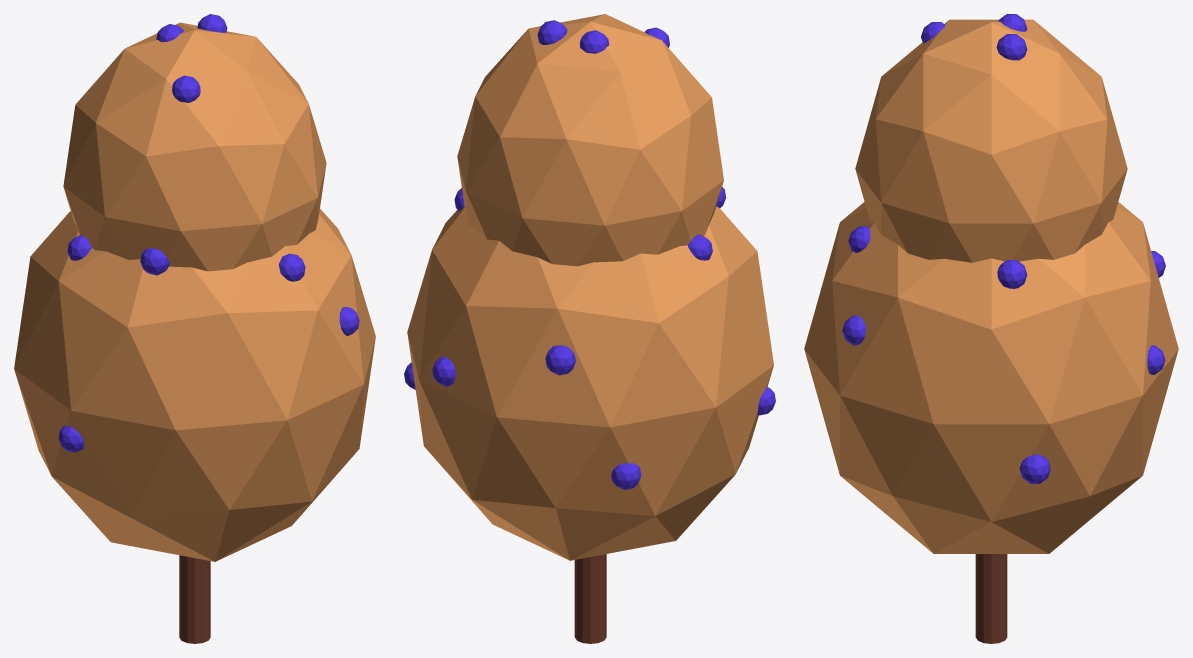
Rendered from PLATINHA3.fbx.
The picture shows the model from 3 angles, left to right: view 1: azimuth 30°, elevation 25°; view 2: azimuth 150°, elevation 25°; view 3: azimuth 270°, elevation 25°; orthographic projection.
Parts seen in each view (by area): view 1: Icosphere.010; view 2: Icosphere.010; view 3: Icosphere.010.
Boxes of the visible parts, x1,y1,x2,y2 form: Icosphere.010: (14, 14, 375, 643); Icosphere.010: (404, 14, 775, 643); Icosphere.010: (804, 14, 1178, 643).
Size of the model in its own units: 104 by 191 by 105.
